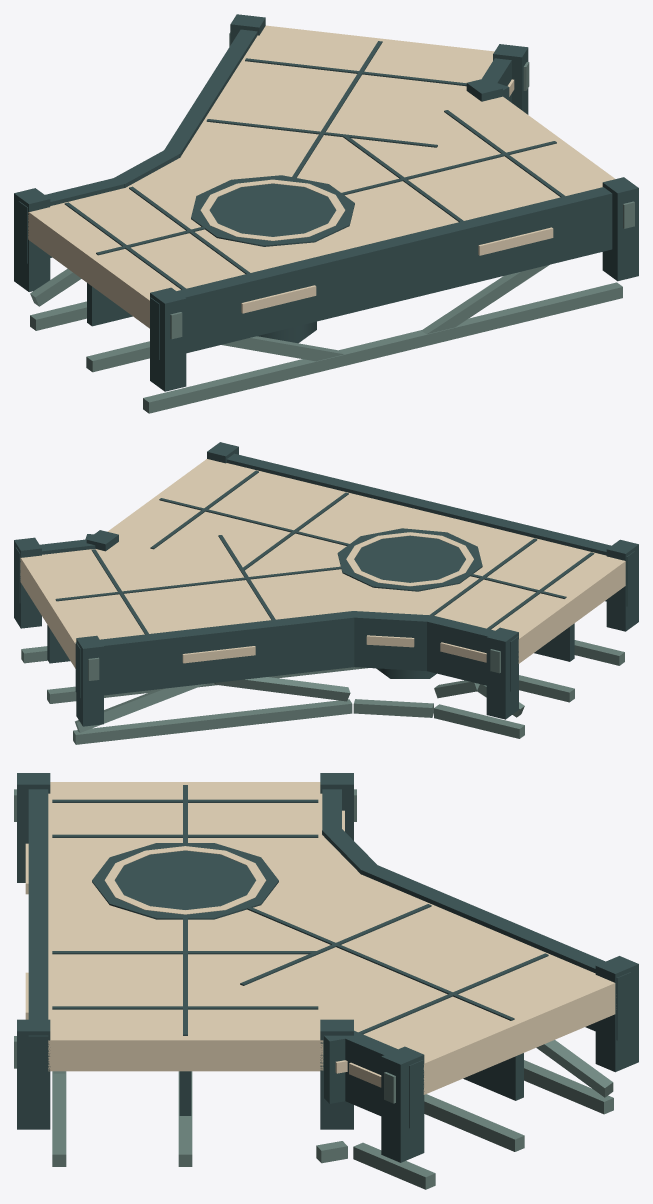
The model's file is Junction_T45_lab2.glb.
3 renders of one model, top to bottom at view 1: azimuth 30°, elevation 25°; view 2: azimuth 150°, elevation 25°; view 3: azimuth 270°, elevation 25°, orthographic. The views are drawn at different scales.
Parts seen in each view (by area): view 1: Junction_T45; view 2: Junction_T45; view 3: Junction_T45.
Part boxes in pixels (bbox=[...]): Junction_T45: bbox=[14, 14, 638, 413]; Junction_T45: bbox=[14, 442, 638, 744]; Junction_T45: bbox=[14, 773, 638, 1189].
Size of the model in its own units: 7.01 by 1.58 by 6.34.
